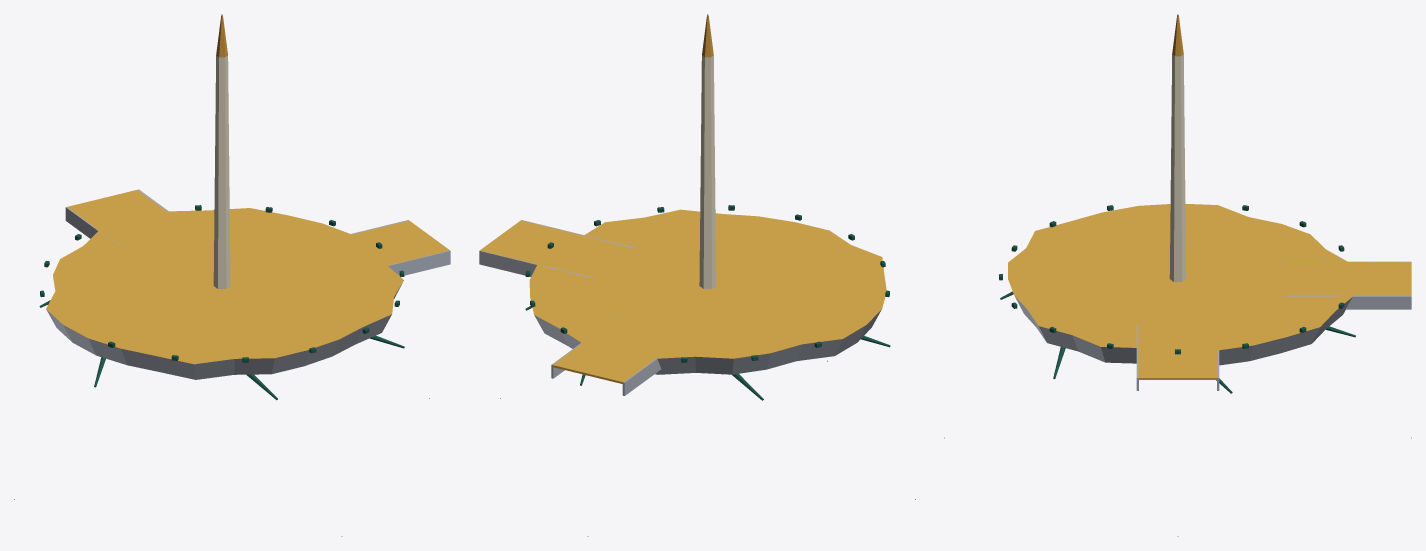
File: chunk_es_path_bend_east.fbx
3 views of the same model, side by side, from view 1: azimuth 30°, elevation 25°; view 2: azimuth 150°, elevation 25°; view 3: azimuth 270°, elevation 25° (orthographic). The views are drawn at different scales.
Visible parts, largest first — view 1: ES_PATH_BEND_EAST; view 2: ES_PATH_BEND_EAST; view 3: ES_PATH_BEND_EAST.
Boxes of the visible parts, left/top/right/bottom form: ES_PATH_BEND_EAST: left=14, top=14, right=450, bottom=536; ES_PATH_BEND_EAST: left=479, top=14, right=915, bottom=536; ES_PATH_BEND_EAST: left=944, top=14, right=1411, bottom=536.
Size of the model in its own units: 256 by 256 by 256.
